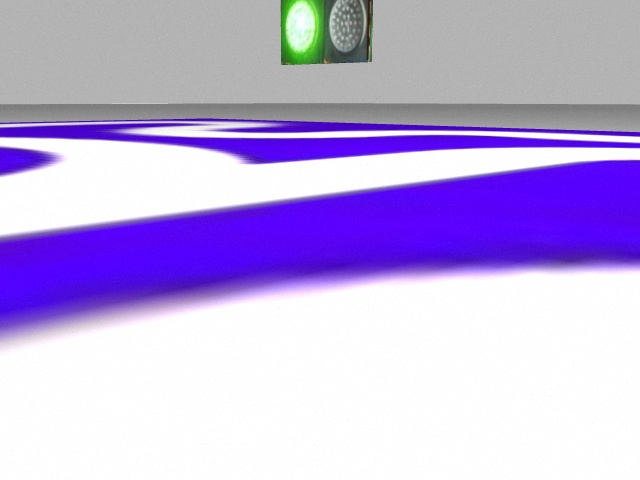green: (280, 2, 324, 64)
